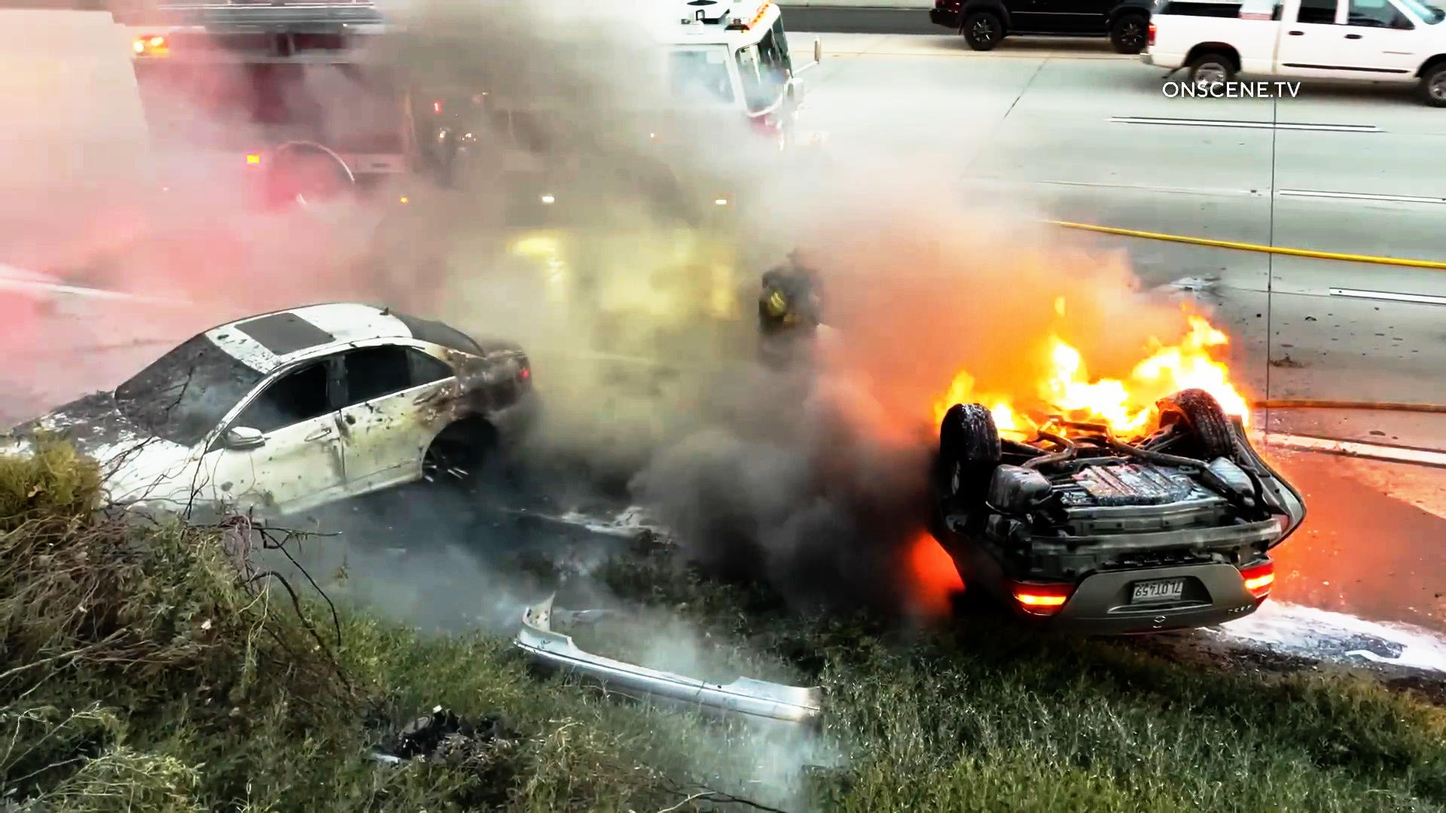fire: (1133, 322, 1252, 422), (1039, 338, 1134, 434), (954, 376, 1024, 451)
smoke: (378, 2, 802, 255), (635, 344, 931, 628), (817, 110, 1124, 310)
